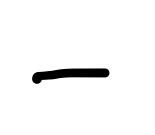minus: (32, 67, 110, 84)
